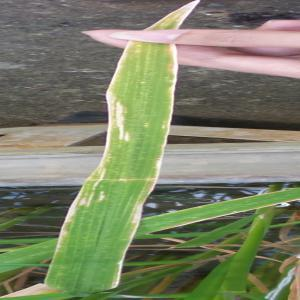2 BacterialBlight: (101, 41, 175, 198)
